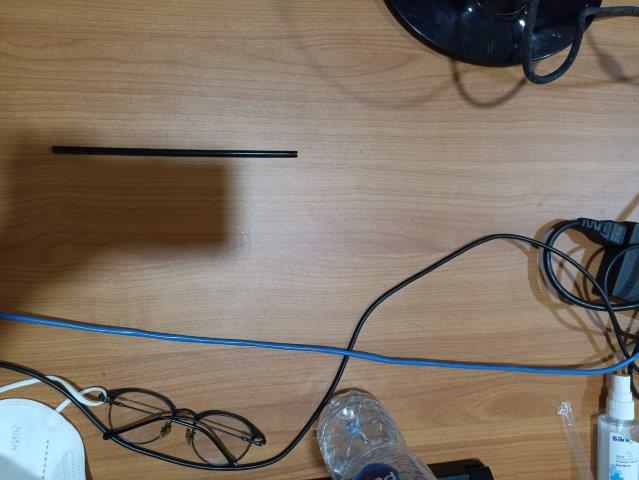sedotan: (52, 146, 298, 158)
